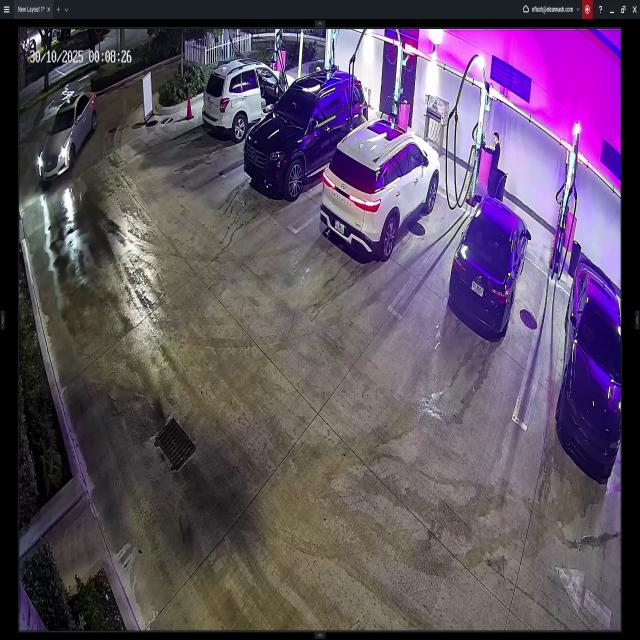Car: (242, 66, 368, 198), (327, 115, 439, 262), (562, 261, 619, 483), (449, 193, 529, 339), (202, 59, 300, 136), (40, 92, 96, 176)
